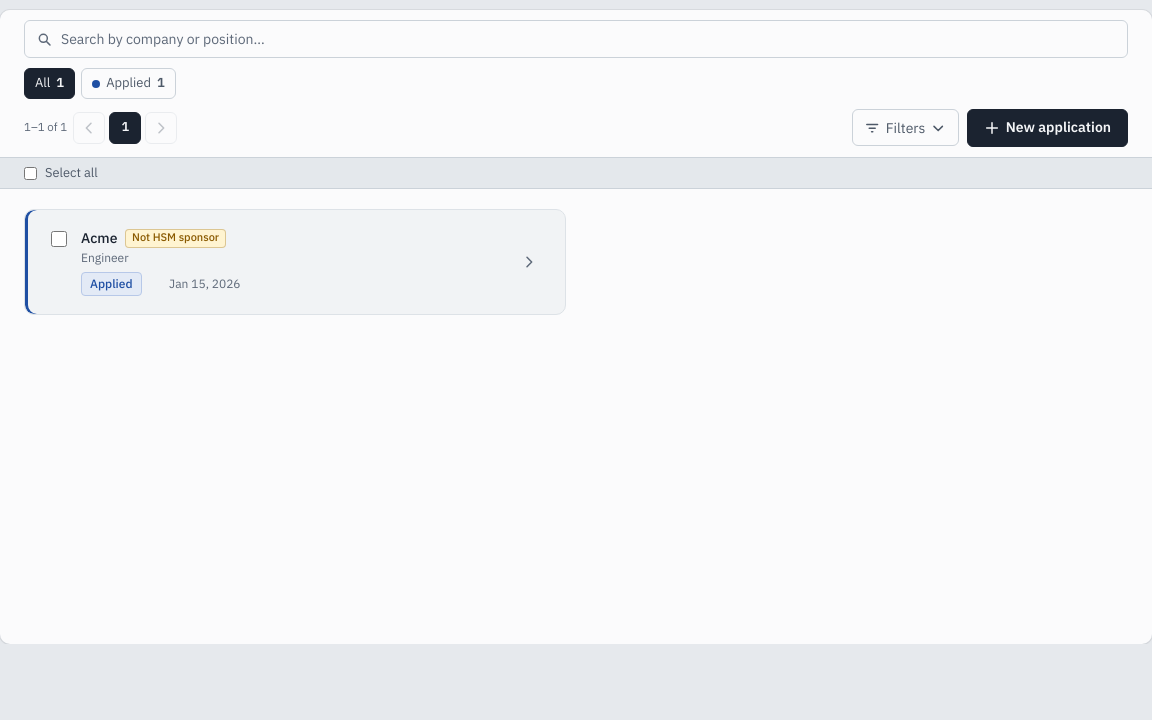
Test: ApplicationsView – list stagger transition › rows reappear when filter is cleared
In the field with class "filter-input": [576, 39] box [24, 20, 1128, 58], type "zzzzz"
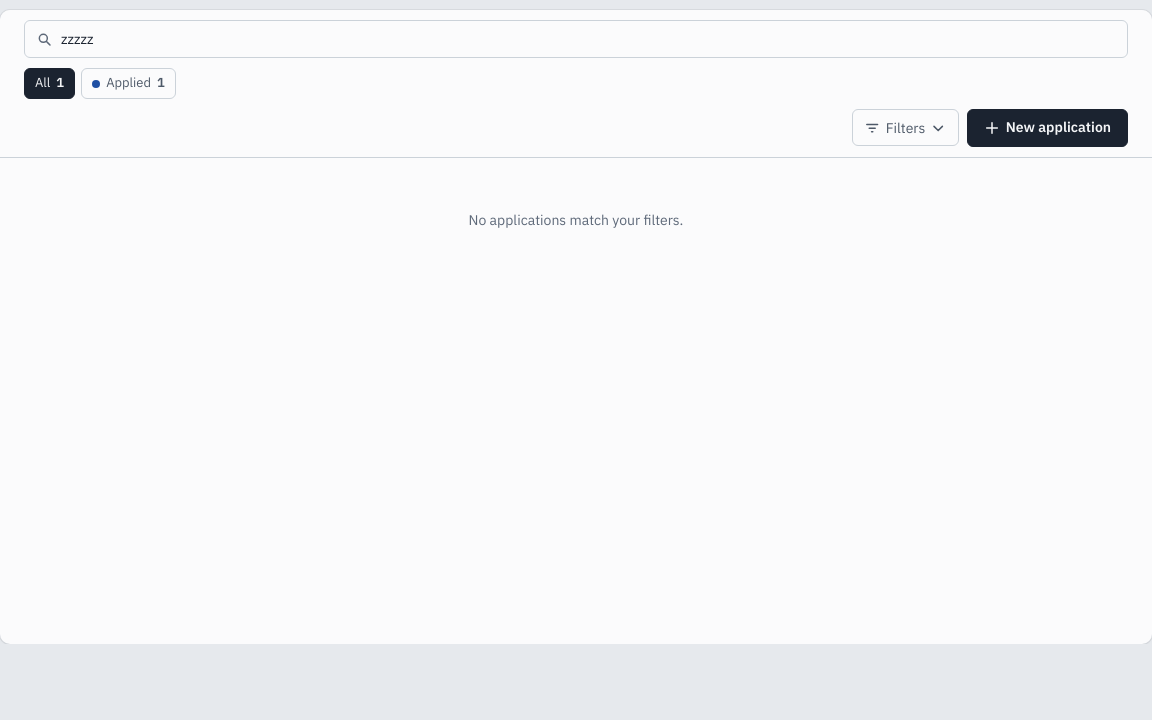
Now no list items with class "company-row" are shown
Clear the field with class "filter-input": [576, 39] box [24, 20, 1128, 58]
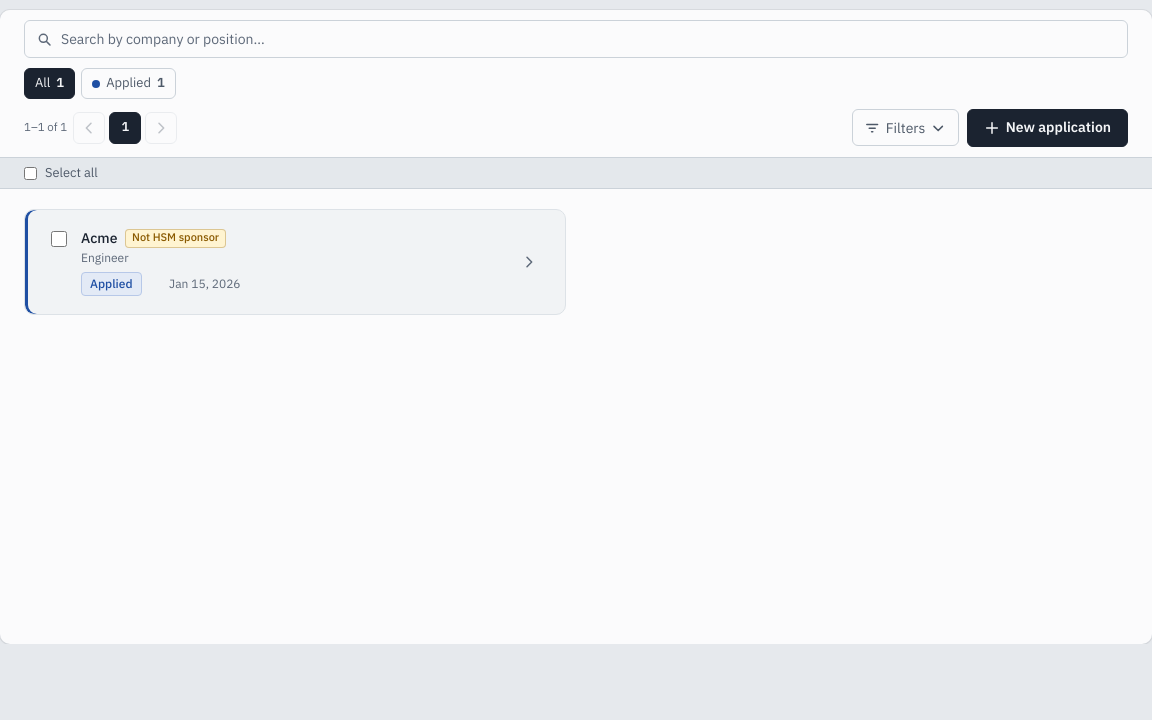
Now the number of list items with class "company-row" is 1, box [24, 209, 566, 315]
